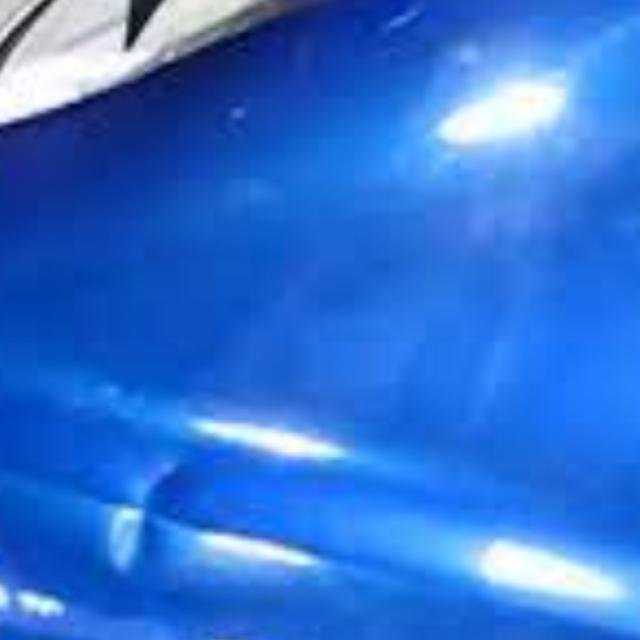dents: (66, 443, 245, 589)
